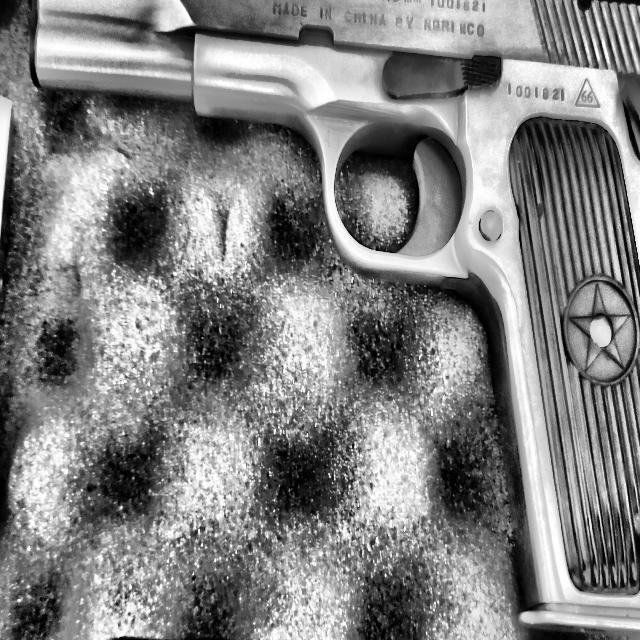Norinco: (28, 0, 640, 636)
